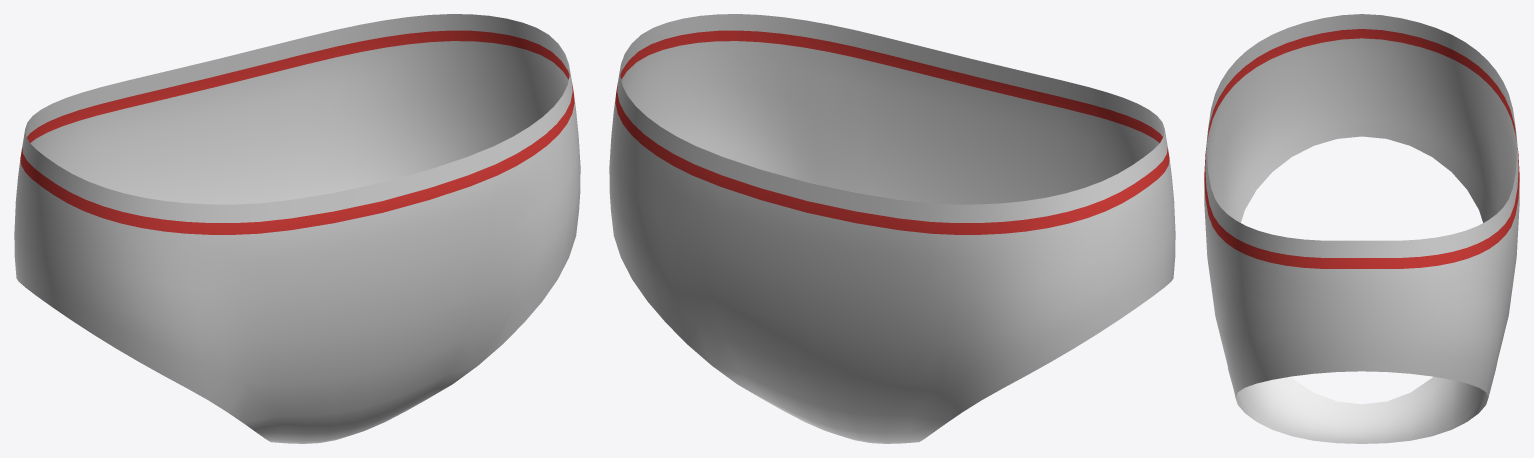
Rendered from briefs.gltf.
3 views of the same model, side by side, from view 1: azimuth 30°, elevation 25°; view 2: azimuth 150°, elevation 25°; view 3: azimuth 270°, elevation 25° (orthographic). The views are drawn at different scales.
Visible parts, largest first — view 1: Circle.1801; view 2: Circle.1801; view 3: Circle.1801.
Boxes of the visible parts, x1=… form: Circle.1801: x1=14, y1=14, x2=580, y2=443; Circle.1801: x1=609, y1=14, x2=1175, y2=443; Circle.1801: x1=1204, y1=14, x2=1519, y2=443.
Size of the model in its own units: 1.98 by 1.2 by 1.12.
Materials: 1 (1 with a texture image).
